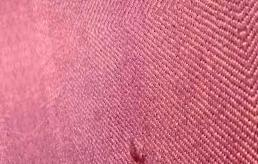knot: (126, 135, 151, 163)
